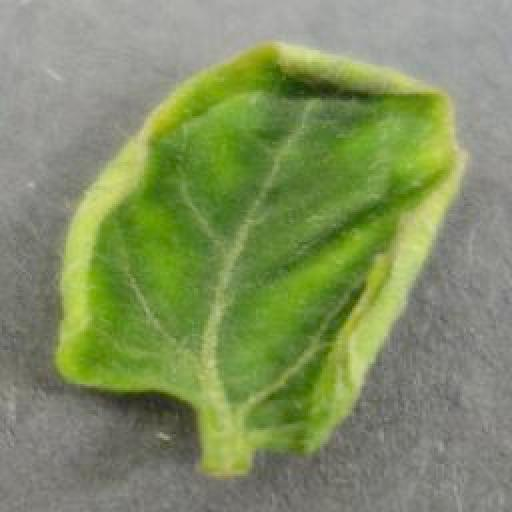disease_tomato: (54, 37, 464, 459)
